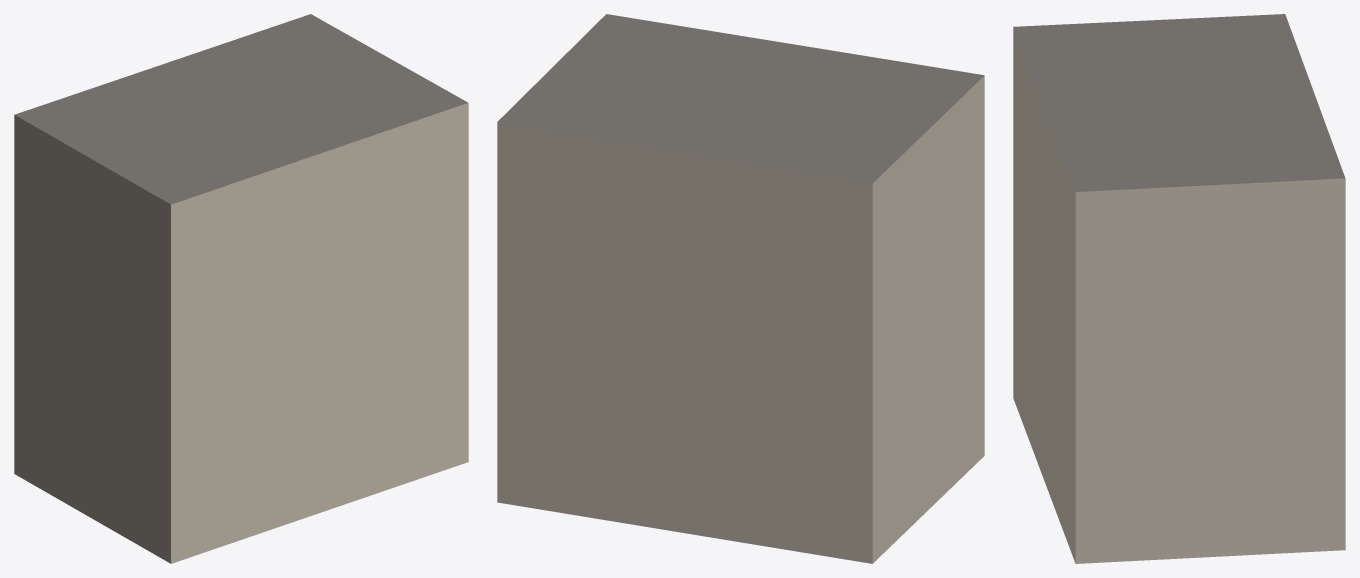
3 renders of one model, left to right at view 1: azimuth 30°, elevation 25°; view 2: azimuth 150°, elevation 25°; view 3: azimuth 270°, elevation 25°, orthographic. The views are drawn at different scales.
Parts seen in each view (by area): view 1: HP-w505643538; view 2: HP-w505643538; view 3: HP-w505643538.
Boxes of the visible parts, left/top/right/bottom form: HP-w505643538: left=14, top=14, right=468, bottom=563; HP-w505643538: left=497, top=14, right=984, bottom=563; HP-w505643538: left=1013, top=14, right=1345, bottom=563.
Bounding box in the file's own units: 12.33 × 12 × 9.71.
